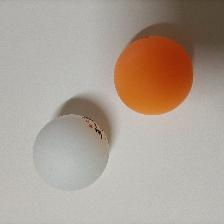WhiteBall: (31, 113, 109, 190)
YellowBall: (113, 35, 193, 115)
